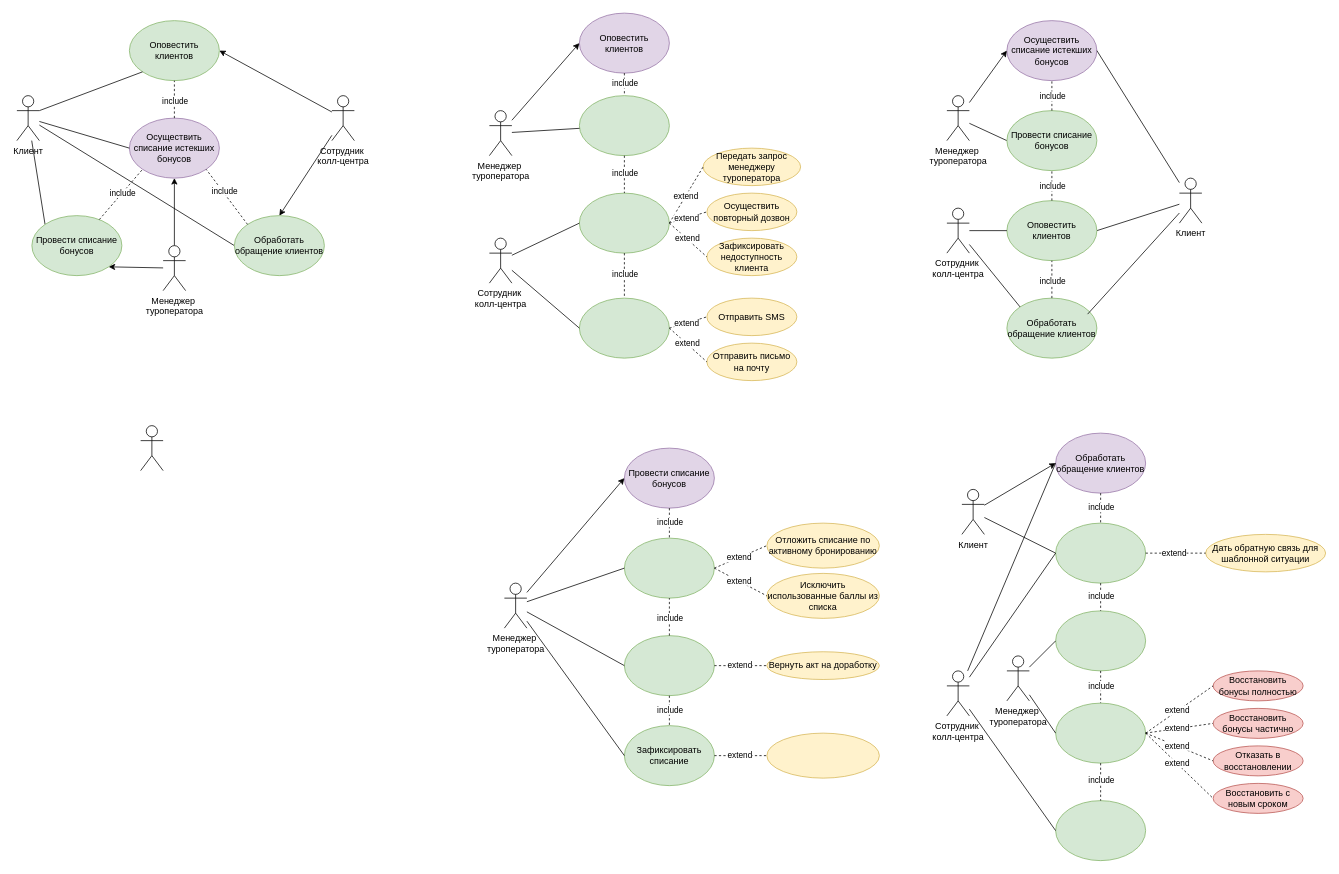
Image size: 1339x874. Some labels were removed from this diagram. The shapes that lost their labels are listed below. From the top down, each one's box as (x1, y1, x2, y2) in pixels, then its label:
(579, 95, 669, 156): Сформировать список истекающих бонусов
(579, 192, 669, 253): Осуществить обзвон клиентов
(579, 297, 669, 358): Направить письменное уведомление
(140, 425, 163, 471): Сотрудник
(624, 537, 714, 598): Проверить использование бонусов за период
(1055, 522, 1146, 583): Принять обращение клиента
(1055, 610, 1146, 671): Рассмотреть жалобу
(624, 635, 714, 696): Подготовить акт списания
(1055, 702, 1146, 763): Принять решение по обращению
(766, 732, 879, 778): Поставить на повторную проверку
(1055, 800, 1146, 861): Уведомить клиента о решении
